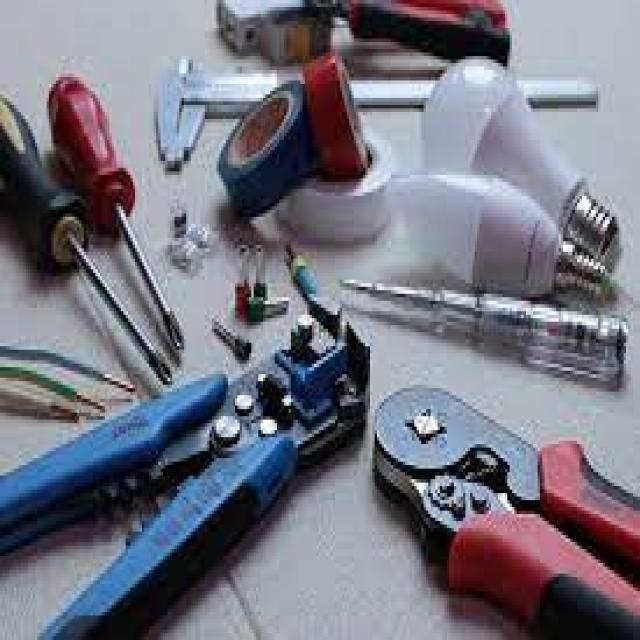screwdriver: (0, 91, 177, 392), (49, 66, 191, 357), (337, 264, 626, 390)
